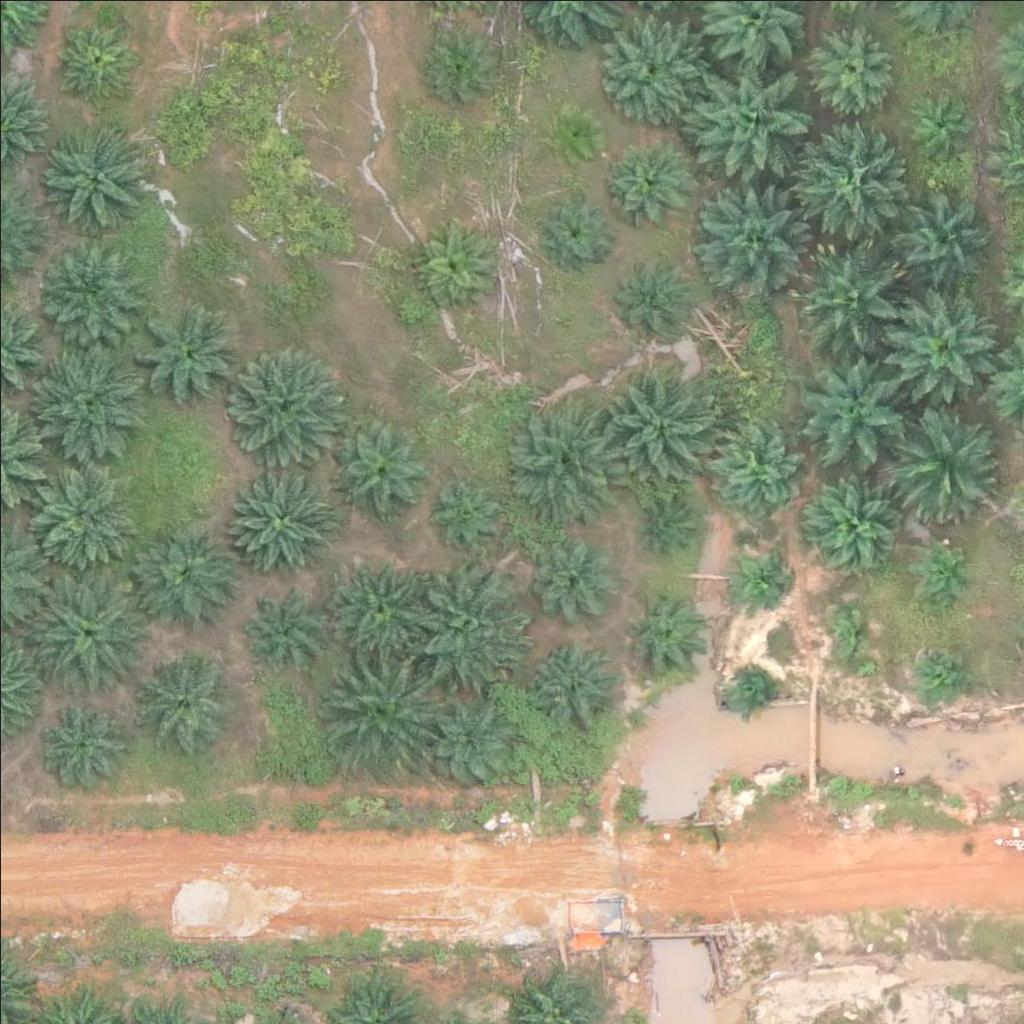Kelapa_Sawit: (34, 117, 147, 231), (231, 345, 344, 459), (505, 396, 618, 510), (23, 455, 136, 568), (34, 232, 147, 345), (600, 374, 713, 487), (697, 58, 810, 171), (801, 350, 914, 463), (788, 117, 901, 230), (892, 410, 1005, 523), (887, 278, 1000, 391), (700, 183, 812, 297), (26, 576, 138, 689), (29, 340, 141, 453), (221, 460, 333, 573), (324, 647, 436, 760), (414, 568, 526, 681), (597, 8, 709, 121), (791, 233, 903, 346), (32, 694, 132, 795), (138, 306, 238, 407), (137, 521, 237, 622), (330, 561, 430, 662), (424, 694, 524, 795), (894, 183, 994, 284), (133, 645, 233, 745), (329, 420, 429, 520), (798, 471, 898, 571), (806, 24, 894, 112), (531, 635, 618, 724), (54, 14, 141, 102), (237, 583, 324, 671), (424, 466, 511, 554), (531, 537, 618, 625), (715, 433, 802, 521), (621, 589, 708, 677), (411, 216, 498, 304), (606, 142, 681, 218), (539, 190, 614, 266), (615, 265, 690, 340), (422, 29, 497, 104), (908, 94, 971, 157), (736, 557, 786, 608), (553, 108, 603, 158), (729, 668, 779, 718), (638, 499, 688, 549), (826, 605, 876, 655), (918, 651, 968, 701), (923, 548, 973, 598)
